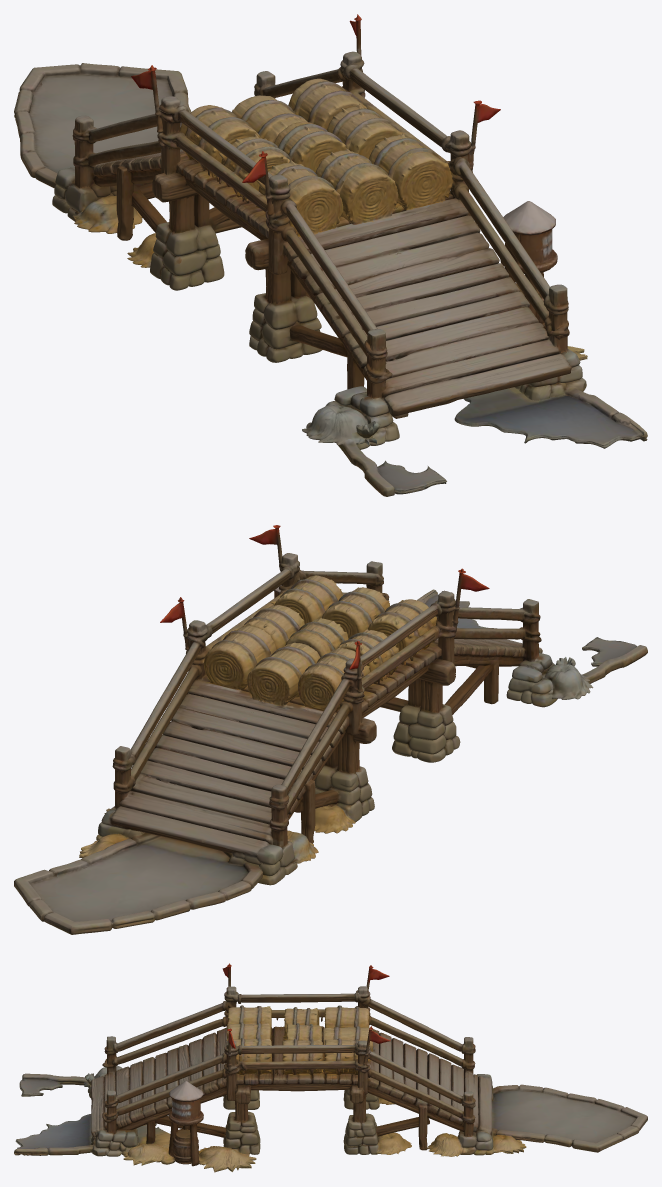
Rendered from wooden+bridge+3d+model.fbx.
3 renders of one model, top to bottom at view 1: azimuth 30°, elevation 25°; view 2: azimuth 150°, elevation 25°; view 3: azimuth 270°, elevation 25°, orthographic. The views are drawn at different scales.
Parts seen in each view (by area): view 1: meshes[0]; view 2: meshes[0]; view 3: meshes[0].
Boxes of the visible parts, x1=… form: meshes[0]: x1=14, y1=14, x2=647, y2=496; meshes[0]: x1=14, y1=525, x2=647, y2=934; meshes[0]: x1=14, y1=963, x2=647, y2=1172.
Bounding box in the file's own units: 0.3502 × 0.2218 × 0.9776.
1 material, 1 textured.
